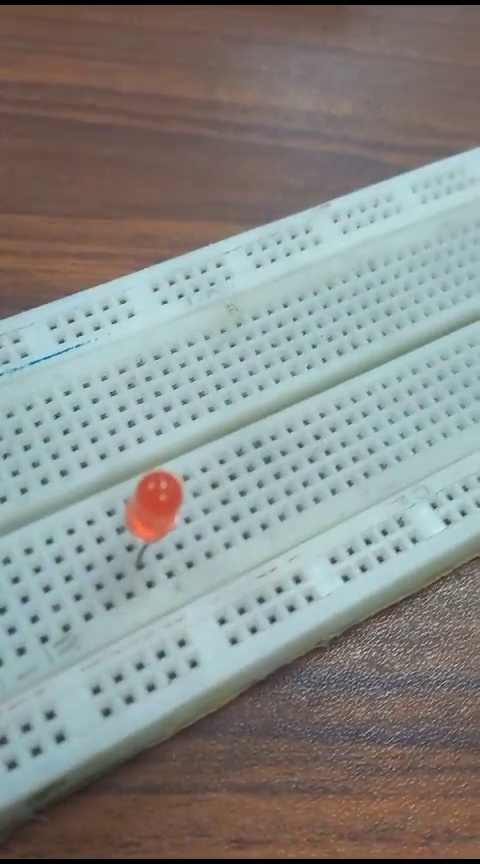LED: (124, 471, 187, 573)
